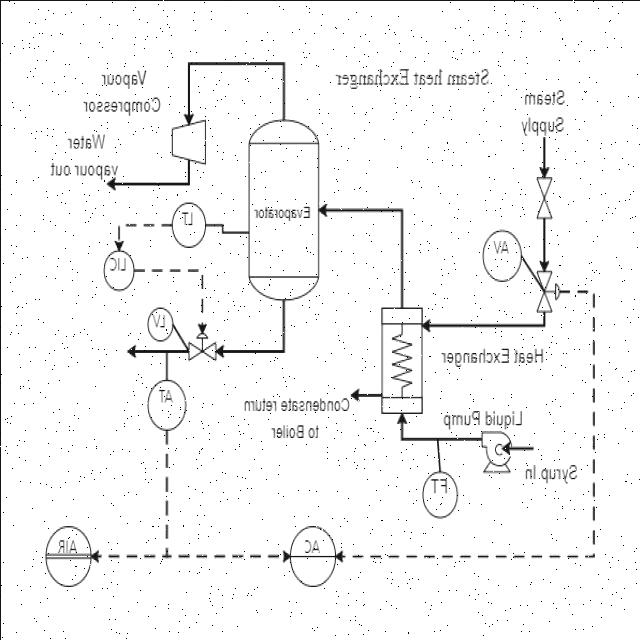Centrifugal Pump: (472, 428, 522, 476)
Gate Valve: (530, 173, 558, 222)
Pneumatic-Diaphragm Gate Valve: (530, 266, 560, 312), (185, 329, 217, 362)
